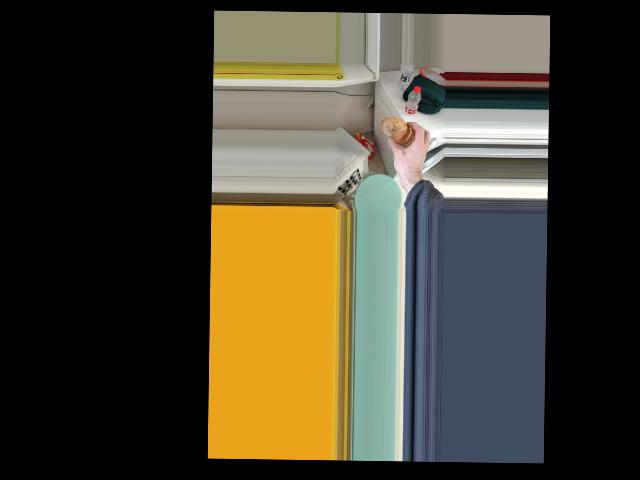sweet_potato: (381, 115, 412, 146)
